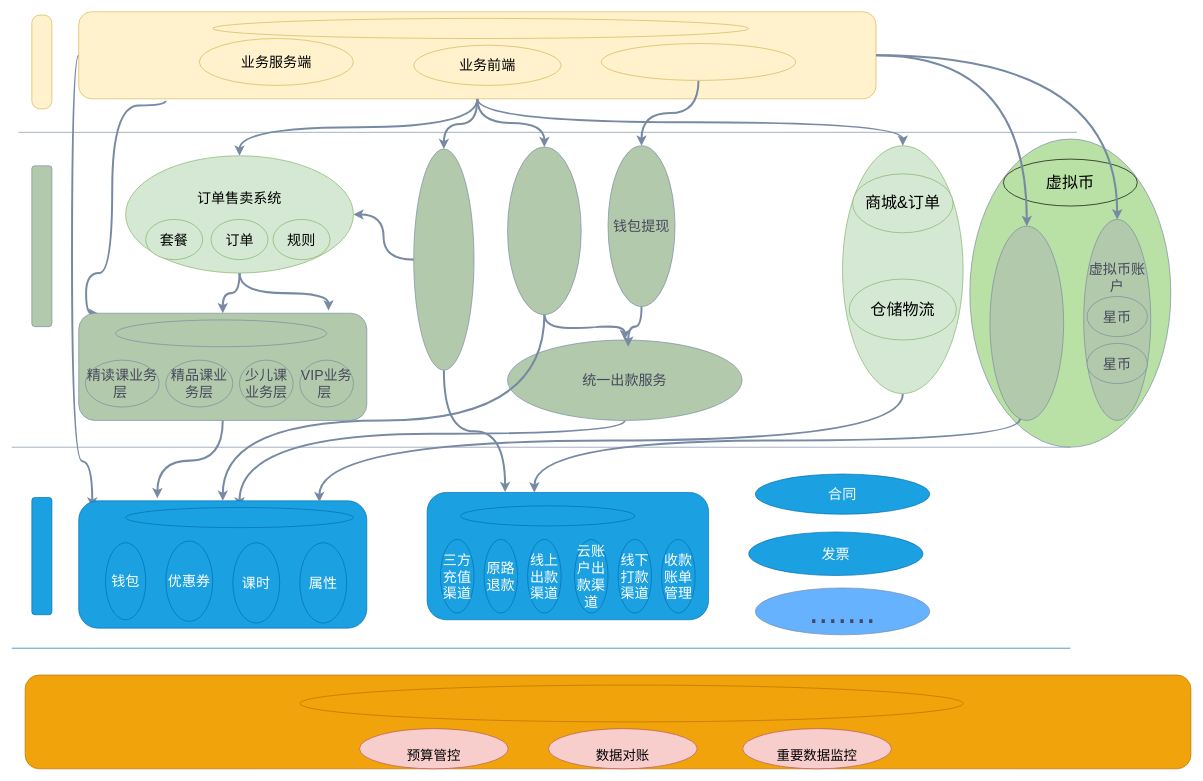
Some shapes in this 1203 by 781 pixel diagram are drawn without their labels. The centre of each missing label's shape, as x and y in pixels:
APP: pixel 698 61
业 务 层 逻 辑 层: pixel 41 246
业务请求端: pixel 480 28
奖励金账户: pixel 1026 322
底 层 权 益 层: pixel 41 556
支付服务: pixel 443 259
收/出款服务: pixel 547 515
权益系统: pixel 239 517
系统业务层: pixel 221 333
统一风控平台: pixel 631 703
请 求 来 源 层: pixel 41 61
退款/返学费: pixel 544 230
